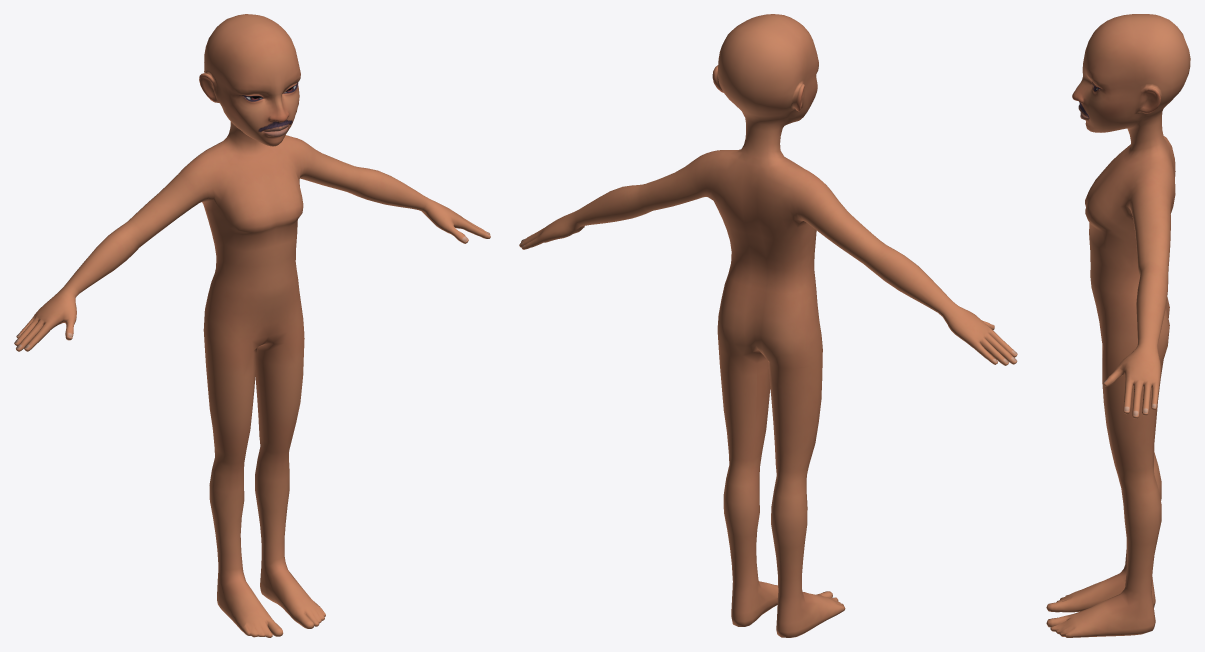
File: frame_0032.glb
3 renders of one model, left to right at view 1: azimuth 30°, elevation 25°; view 2: azimuth 150°, elevation 25°; view 3: azimuth 270°, elevation 25°, orthographic. The views are drawn at different scales.
Parts seen in each view (by area): view 1: frame_0032_head_geo; view 2: frame_0032_head_geo; view 3: frame_0032_head_geo.
Boxes of the visible parts, bbox=[...] form: frame_0032_head_geo: bbox=[14, 14, 490, 637]; frame_0032_head_geo: bbox=[519, 14, 1017, 637]; frame_0032_head_geo: bbox=[1046, 14, 1190, 637].
Size of the model in its own units: 1.28 by 1.5 by 0.3253.
Materials: 3 (3 with a texture image).
